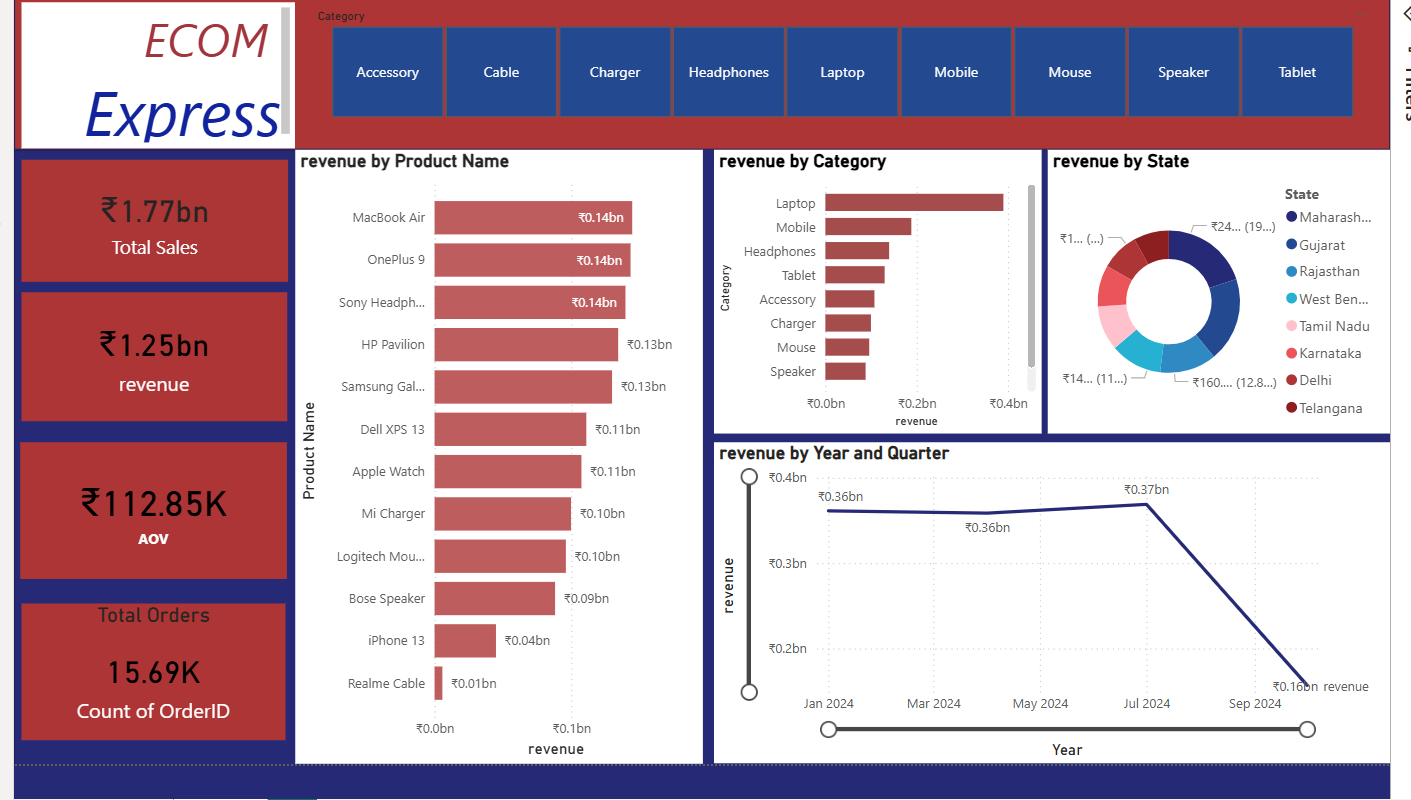

The dashboard page shown, as its layout file describes it:
{"tool":"powerbi","page":{"name":"Page 1","canvas":[1280,720],"ordinal":0},"visuals":[{"type":"shape","box":[0,0,1280.2,147.7],"z":0},{"type":"textbox","box":[7.3,11,254.3,135.7],"z":1000},{"type":"shape","box":[0,147.5,318.8,572.5],"z":2000},{"type":"barChart","fields":{"Y":["table.revenue"],"Category":["Product.Product Name"]},"box":[261.6,147.7,379.1,570.9],"z":3000},{"type":"barChart","fields":{"Y":["table.revenue"],"Category":["Product.Category"]},"box":[651.2,147.7,304.7,264],"z":4000},{"type":"lineChart","fields":{"Y":["table.revenue"],"Category":["Orders.Delivery time.Variation.Date Hierarchy.Year","Orders.Delivery time.Variation.Date Hierarchy.Quarter","Orders.Delivery time.Variation.Date Hierarchy.Month","Orders.Delivery time.Variation.Date Hierarchy.Day"]},"box":[651.2,420,628.8,298.8],"z":5000},{"type":"donutChart","fields":{"Category":["customer.State"],"Y":["table.revenue"]},"box":[961.2,147.5,318.8,263.8],"z":6000},{"type":"slicer","fields":{"Values":["Product.Category"]},"box":[270,11.2,1000,112.5],"z":7000},{"type":"card","fields":{"Values":["table.Total Sales"]},"box":[7.3,156.5,248.2,113.7],"z":8000},{"type":"card","fields":{"Values":["table.revenue"]},"box":[7.3,280,247,119.8],"z":9000},{"type":"card","fields":{"Values":["table.AOV"]},"box":[6.1,419.4,248.2,127.2],"z":10000},{"type":"card","title":"Total Orders","fields":{"Values":["CountNonNull(Orders.OrderID)"]},"box":[7.3,569.8,245.8,127.2],"z":11000}]}

Visuals, with their boxes in screenshot pixels (x1, y1, x2, y2), scaled from the page's 1280x720 canvas onto the 1411x800 screenshot:
shape: 0/0/1410/164
textbox: 8/12/288/163
shape: 0/164/351/799
barChart - table.revenue x Product.Product Name: 288/164/706/798
barChart - table.revenue x Product.Category: 718/164/1054/457
lineChart - table.revenue x Orders.Delivery time.Variation.Date Hierarchy.Year: 718/467/1410/799
donutChart - customer.State x table.revenue: 1060/164/1410/457
slicer - Product.Category: 298/12/1400/137
card - table.Total Sales: 8/174/282/300
card - table.revenue: 8/311/280/444
card - table.AOV: 7/466/280/607
"Total Orders" card: 8/633/279/774
